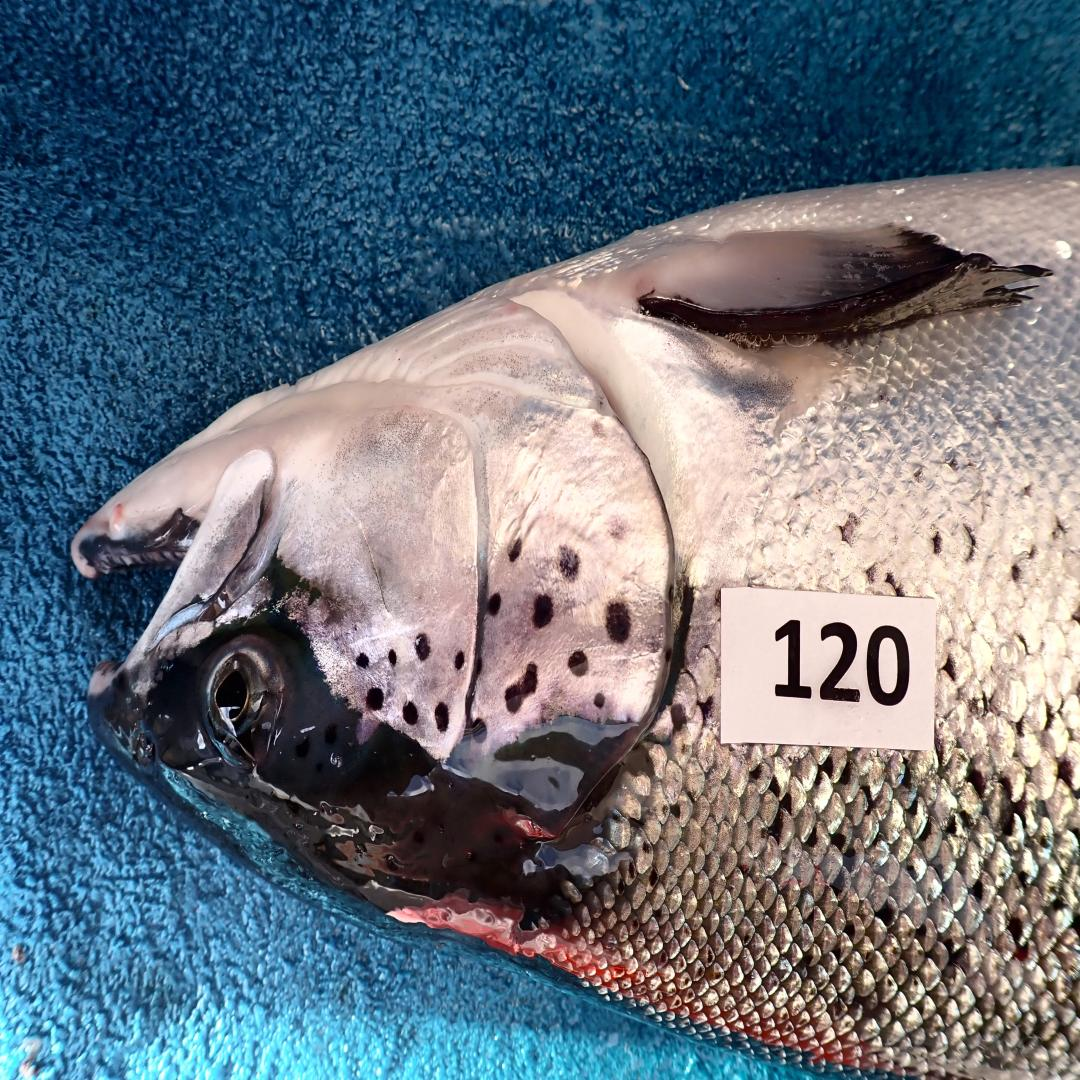spot: (504, 664, 538, 712), (605, 602, 631, 644), (559, 546, 580, 579), (534, 593, 553, 627), (567, 650, 589, 678), (609, 515, 630, 543), (365, 686, 384, 712), (416, 633, 430, 661), (435, 703, 449, 731), (403, 700, 418, 726), (508, 537, 523, 562), (487, 593, 502, 616), (475, 718, 487, 744), (356, 652, 369, 669), (593, 692, 605, 709), (454, 650, 464, 669), (388, 650, 397, 667)
